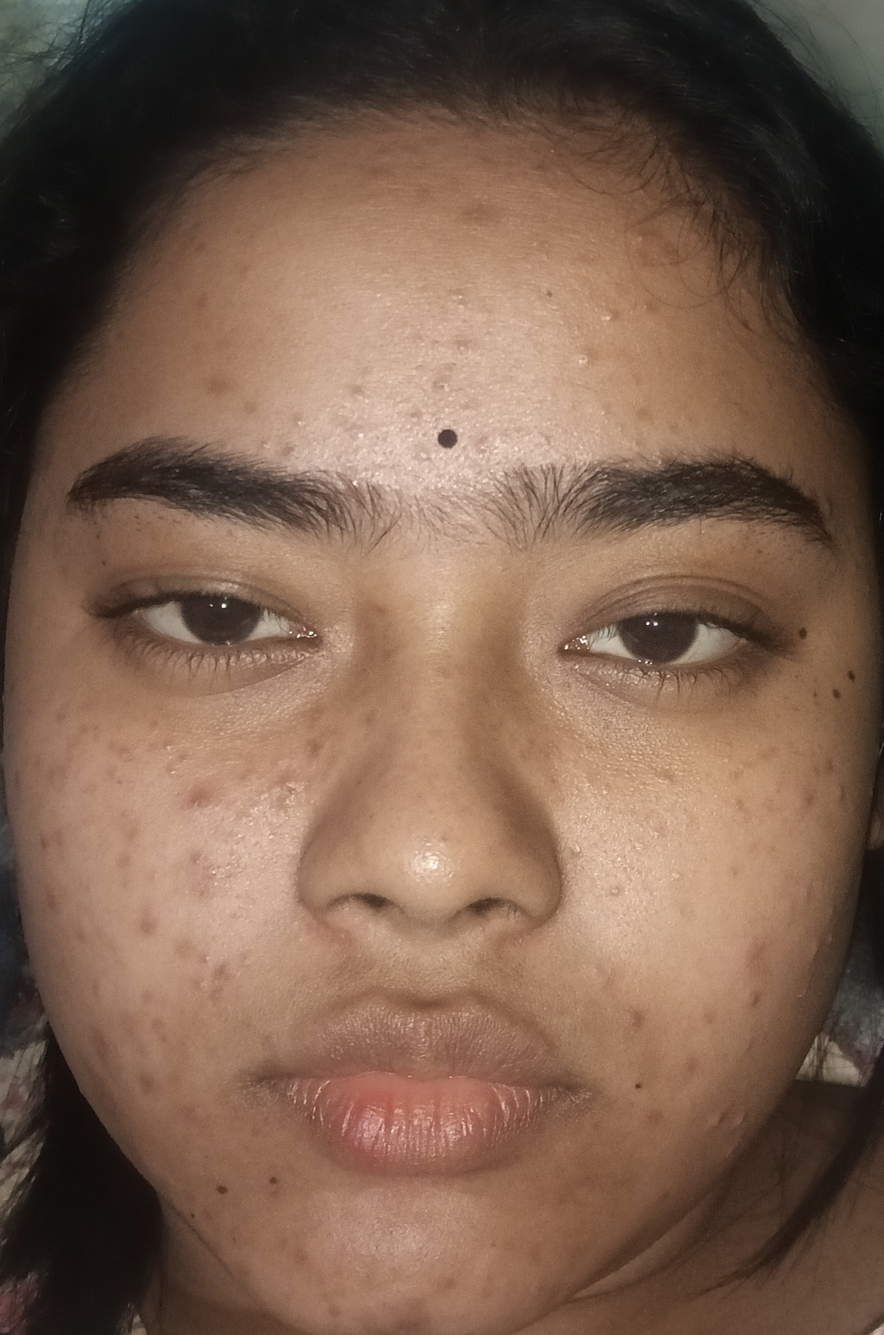closed_comedone: (285, 406, 399, 468), (186, 944, 267, 1010), (588, 873, 677, 906), (586, 290, 628, 345), (626, 838, 650, 869)
papule: (677, 1094, 769, 1164), (161, 768, 230, 832), (119, 882, 190, 944), (137, 730, 223, 763), (571, 329, 611, 391), (811, 776, 857, 821)
